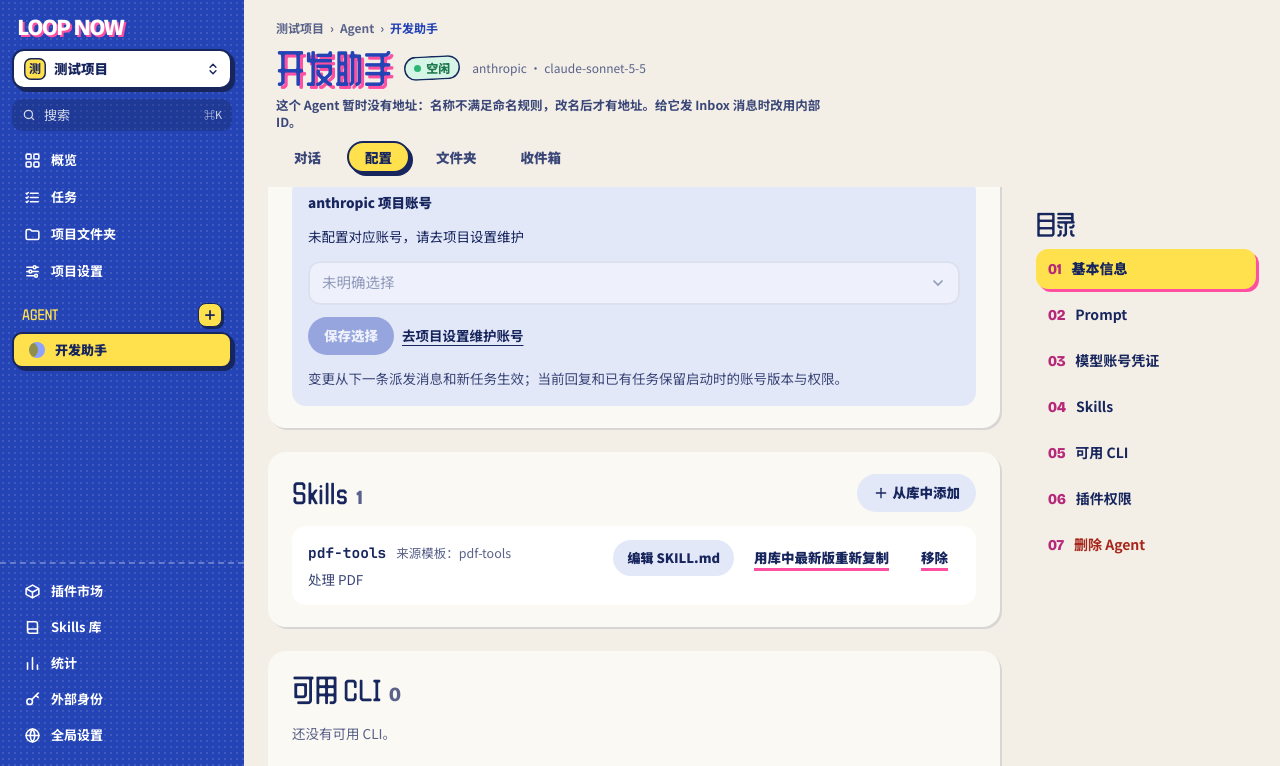
Test case: Agent 的 Skills 副本 › 添加同名 Skill 时提示先移除已有的
(page scrolled)
Click the button "从库中添加" at (916, 493), box x1=856 y1=474 x2=976 y2=512
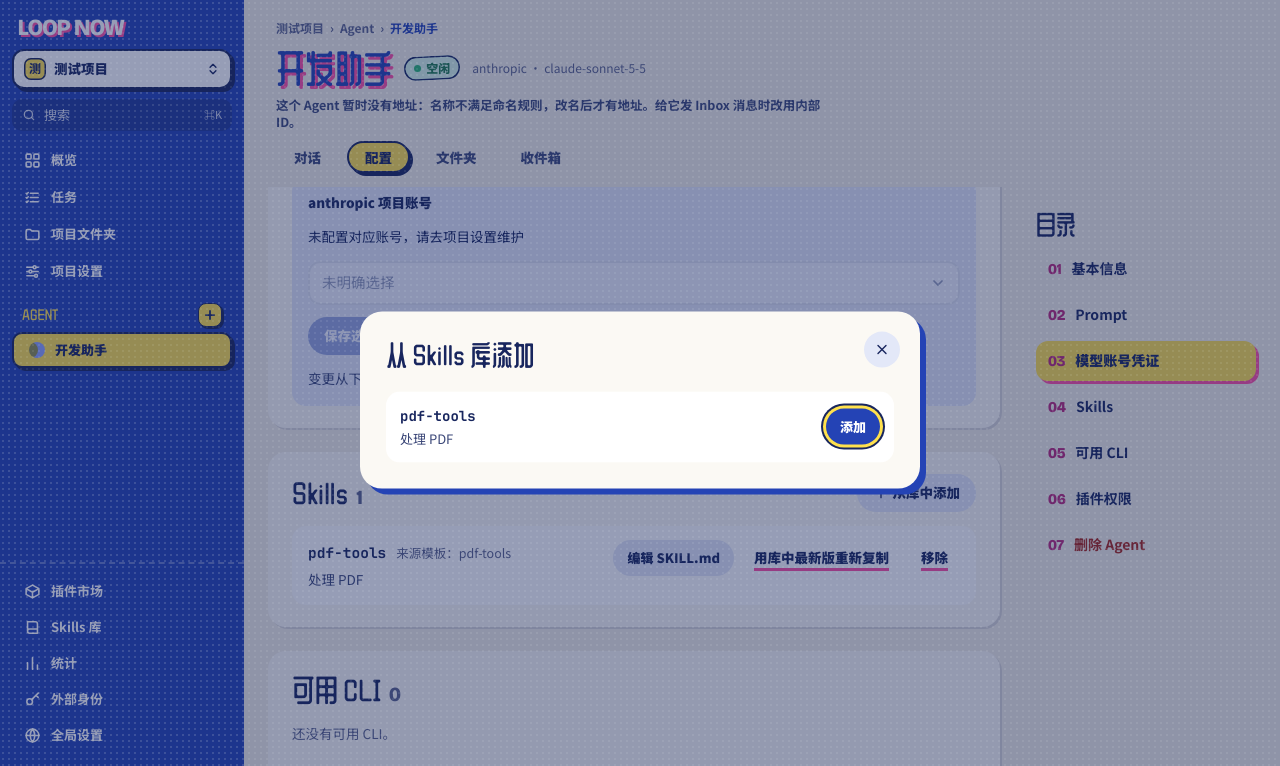
Click the button "添加" at (853, 427), box x1=826 y1=409 x2=880 y2=445
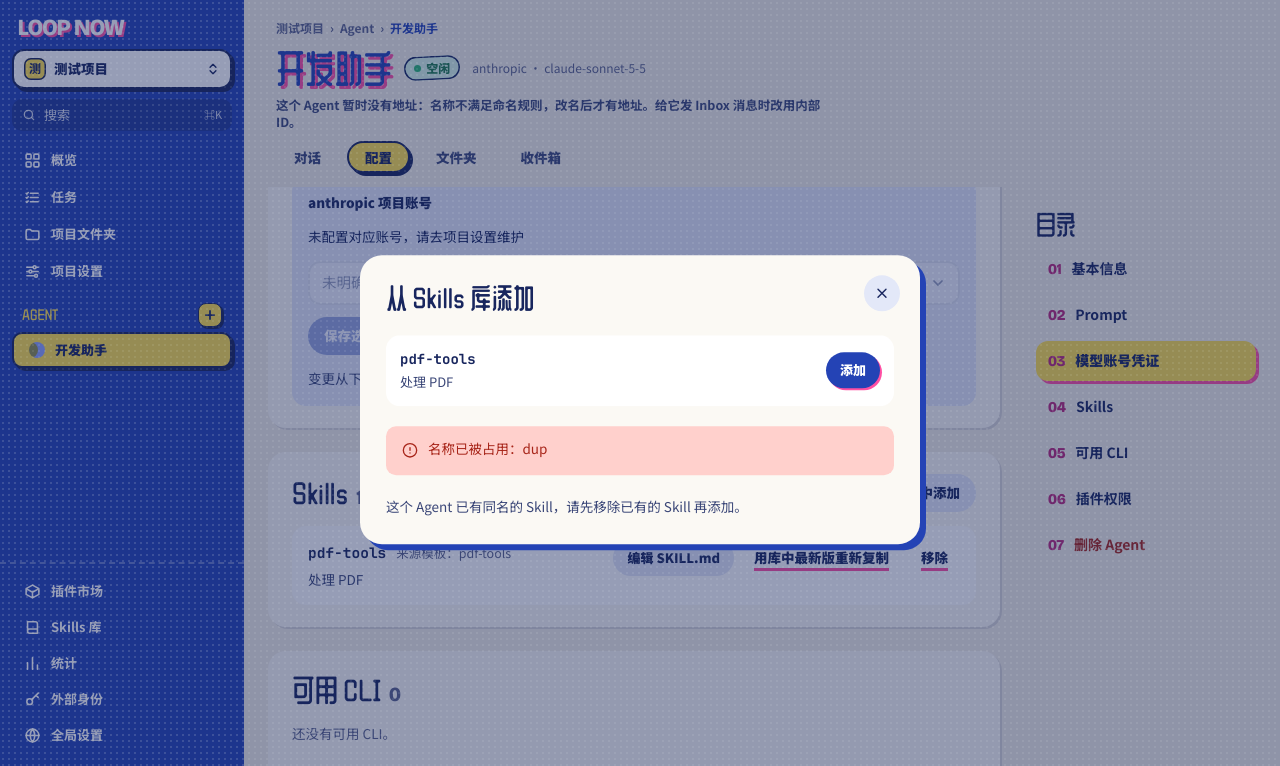
Expected: the text "这个 Agent 已有同名的 Skill，请先移除已有的 Skill 再添加。" is shown, x1=386 y1=498 x2=748 y2=515
